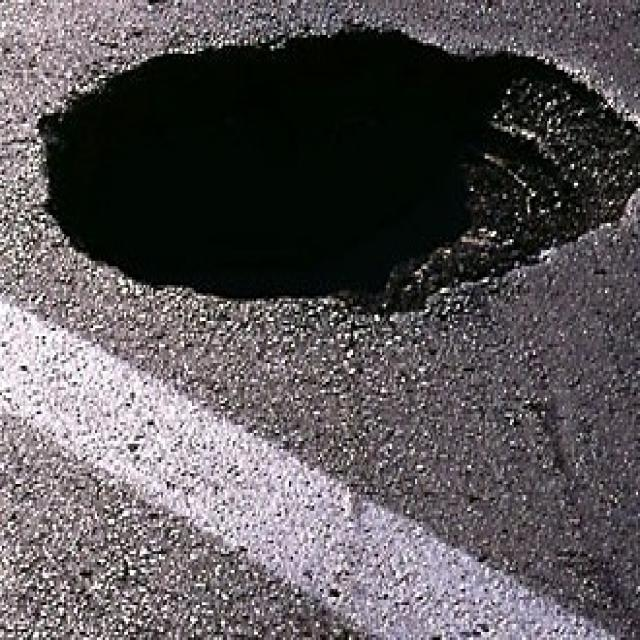road-pothole: (36, 21, 638, 325)
